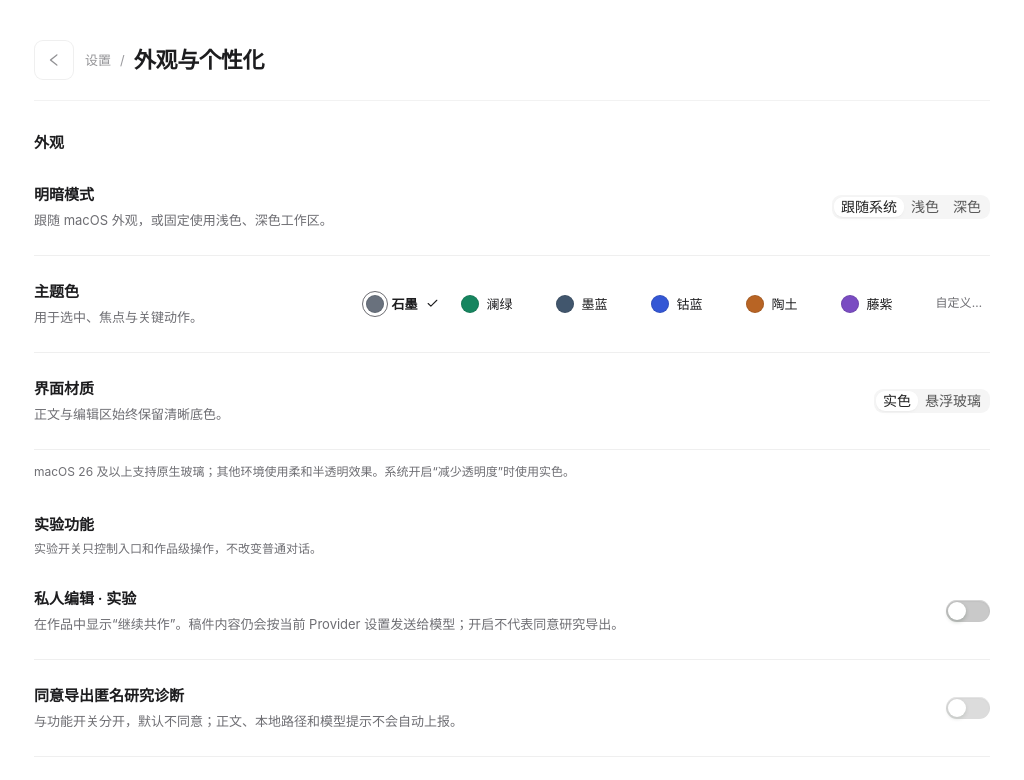
Test: InnovationLabSettingsPage › opens the CSS editor when the custom palette is selected
Click the button "自定义…" at [959, 304], box left=928, top=286, right=990, bottom=322
(page scrolled)
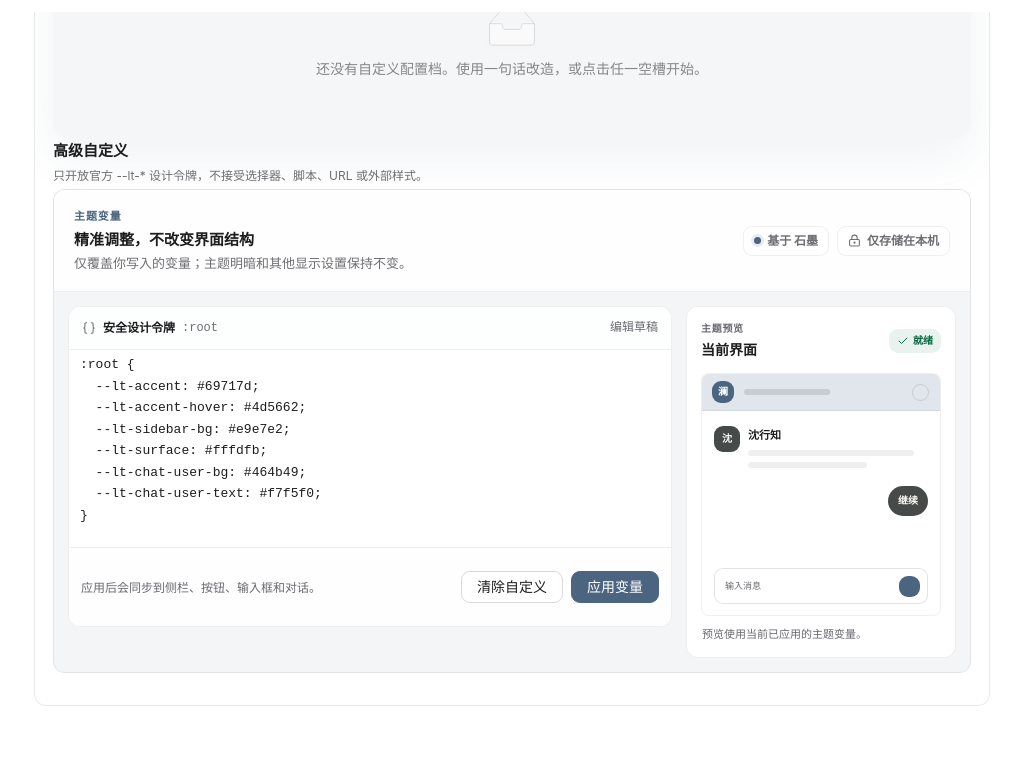
Now the text box named "自定义主题设计令牌" is shown, box left=69, top=350, right=671, bottom=548
